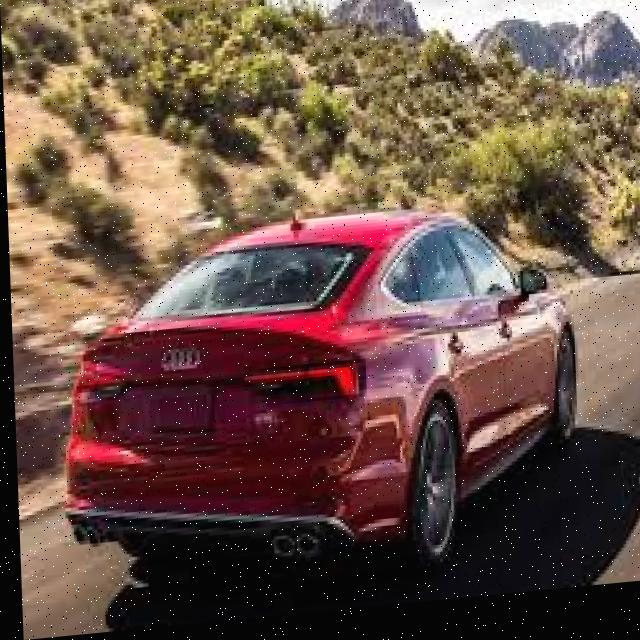car: (43, 187, 587, 582)
